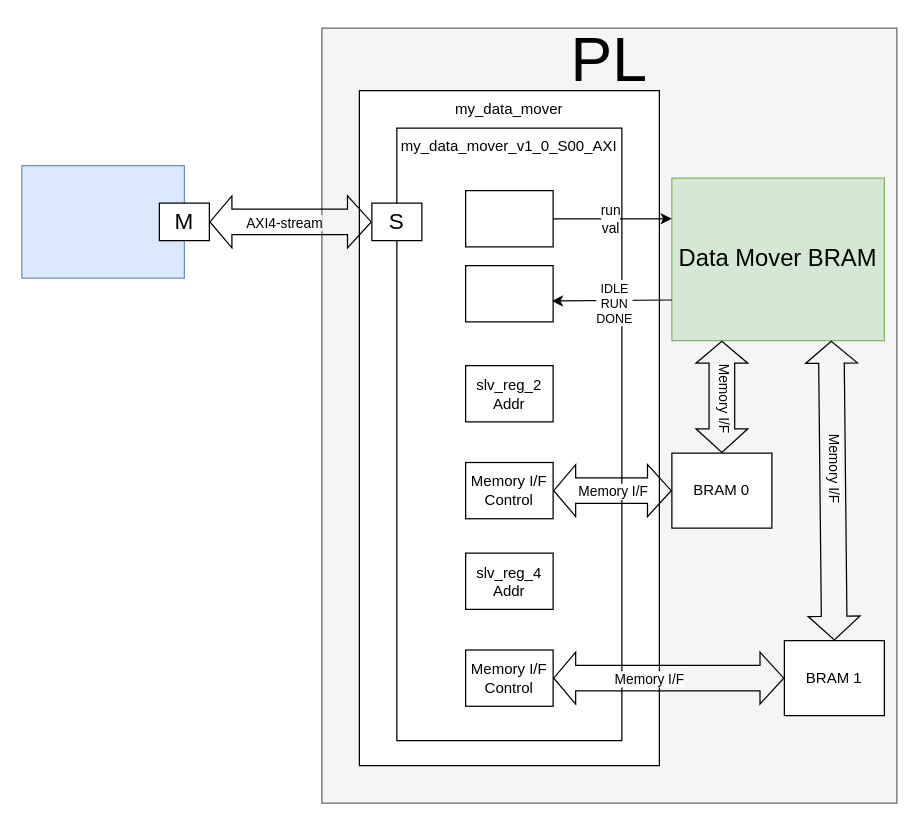
Some shapes in this 919 by 825 pixel diagram are drawn without their labels. Each missing label, with the box of its shape:
PS: (21, 164, 184, 278)
slv_reg_0 Control: (464, 189, 553, 247)
slv_reg_1 Status: (464, 264, 553, 322)
